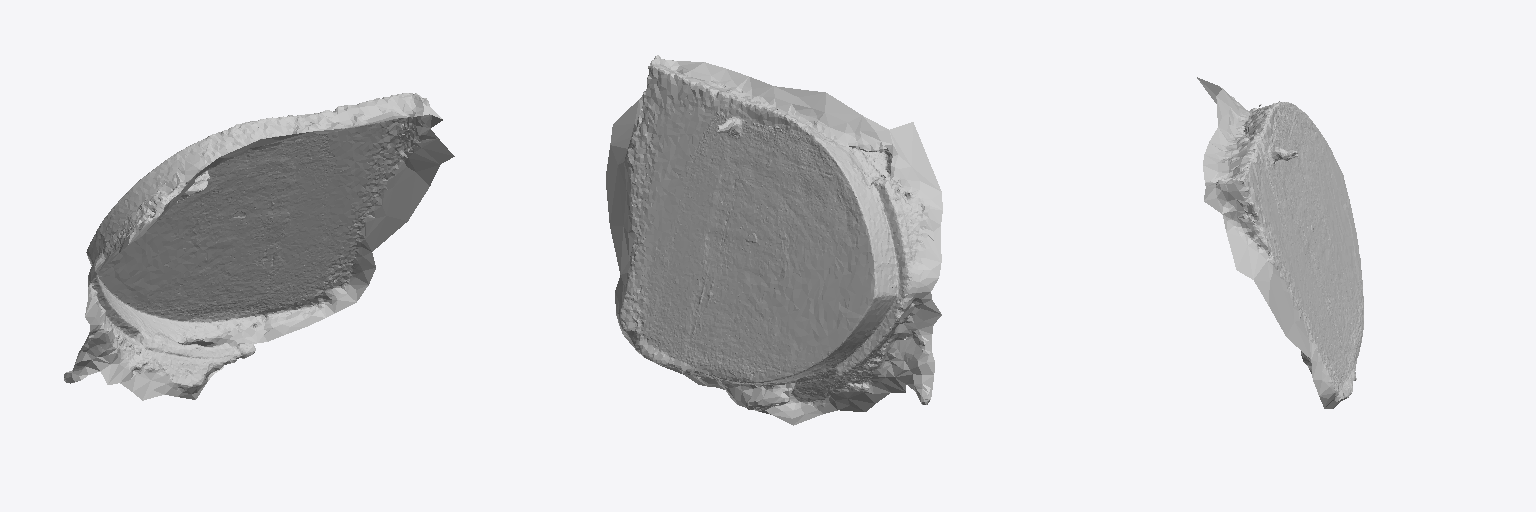
The model's file is Leechkirche_Mosaik.obj.
3 views of the same model, side by side, from view 1: azimuth 30°, elevation 25°; view 2: azimuth 150°, elevation 25°; view 3: azimuth 270°, elevation 25° (orthographic).
Bounding box in the file's own units: 32.03 × 25.35 × 13.15.